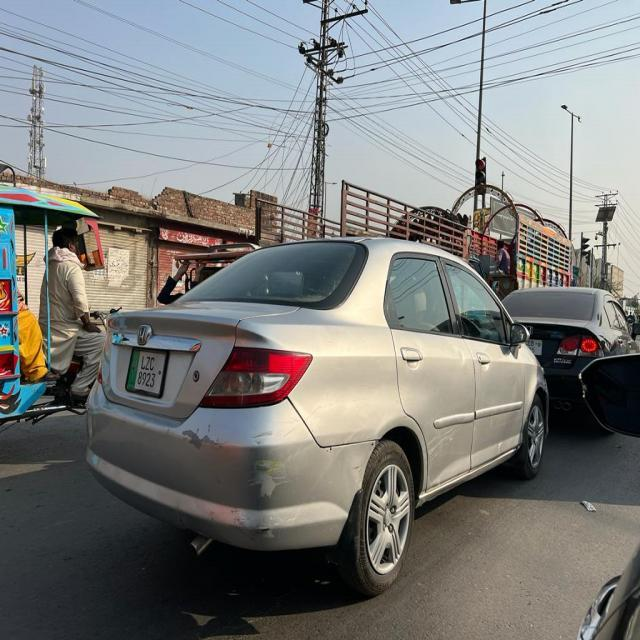scratch: (234, 449, 300, 532), (422, 422, 478, 456), (178, 422, 228, 458)
